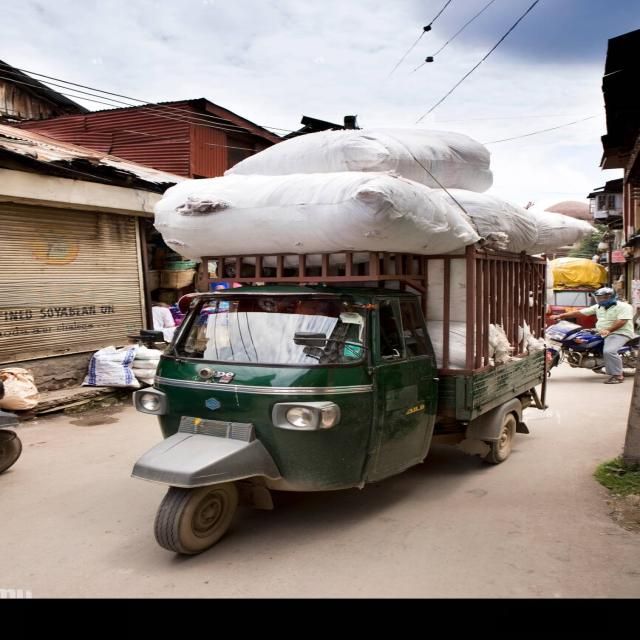truck: (132, 129, 594, 554)
